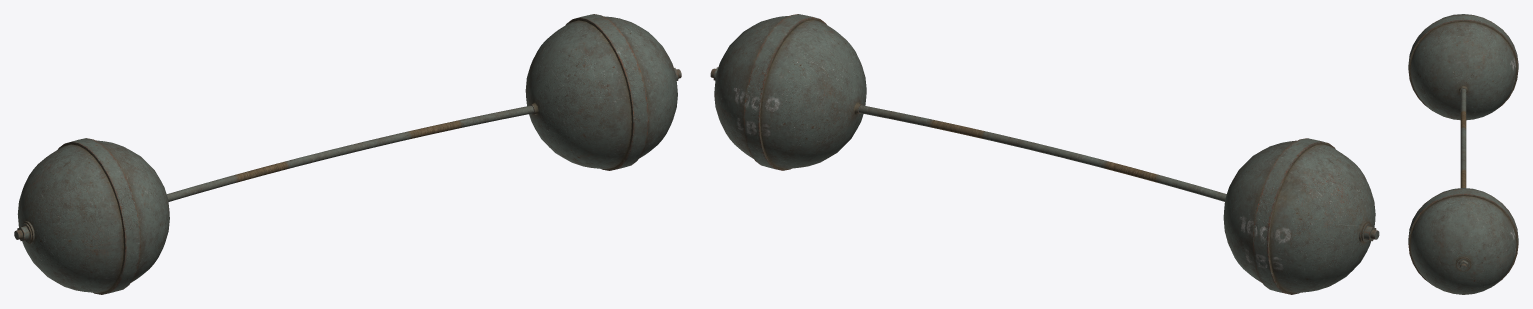
File: SM_Barbell.fbx
The picture shows the model from 3 angles, left to right: view 1: azimuth 30°, elevation 25°; view 2: azimuth 150°, elevation 25°; view 3: azimuth 270°, elevation 25°; orthographic projection. The views are drawn at different scales.
Visible parts, largest first — view 1: SM_Barbell_LOD0; view 2: SM_Barbell_LOD0; view 3: SM_Barbell_LOD0.
Part boxes in pixels (x1,y1,x2,y2): SM_Barbell_LOD0: (14,14,681,294); SM_Barbell_LOD0: (710,14,1379,294); SM_Barbell_LOD0: (1408,14,1518,294).
Size of the model in its own units: 318 by 65.38 by 65.24.
Materials: 1 (1 with a texture image).
